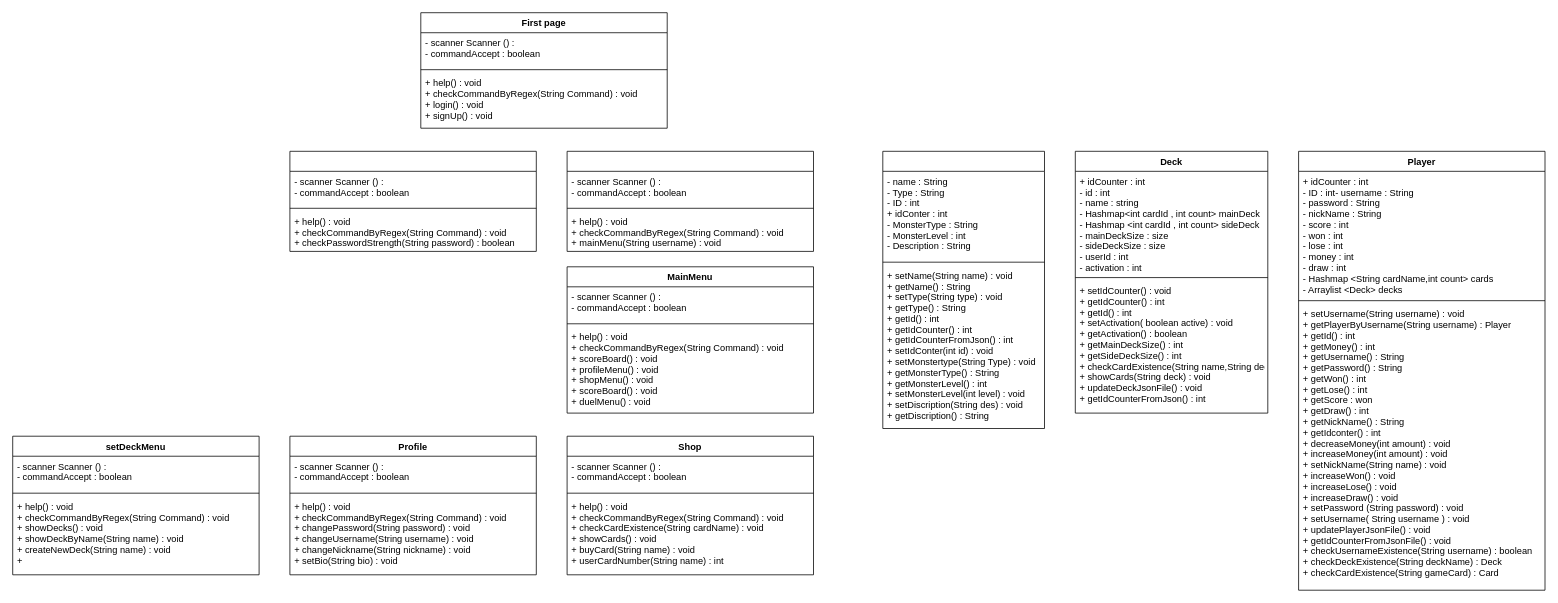
This 1558x603 diagram has some shape labels left out. Each missing label, with the box of its shape:
Card: (882, 151, 1045, 429)
Login: (566, 151, 814, 251)
SignUp: (289, 151, 536, 251)
